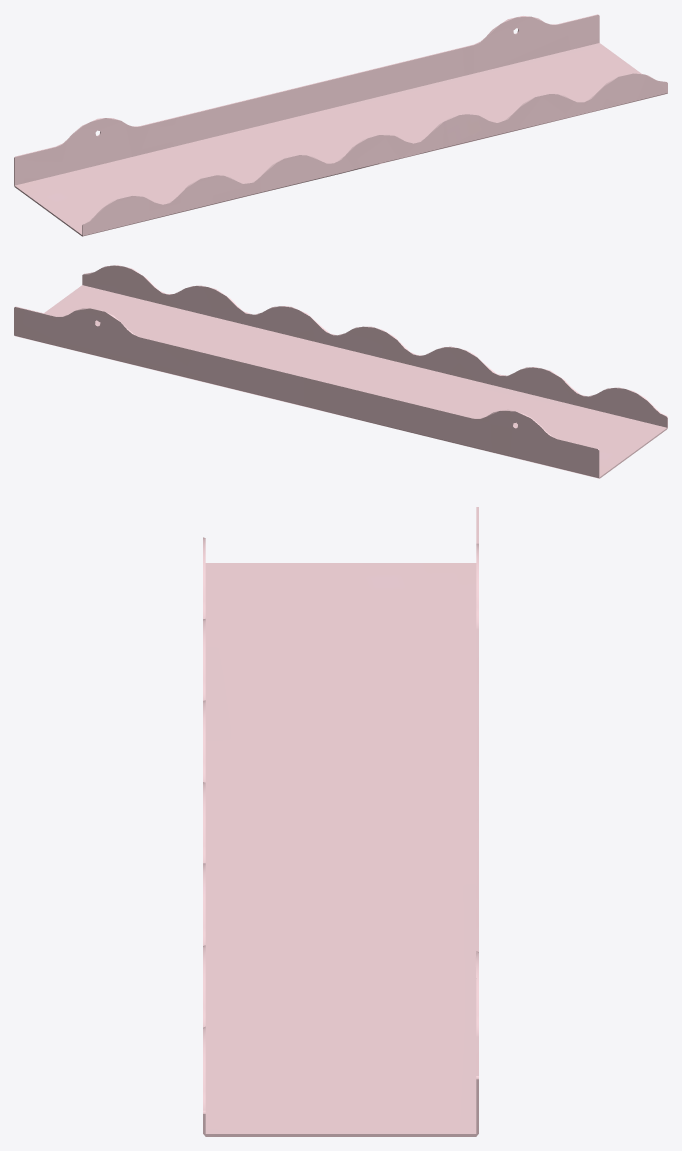
The model's file is 11 - DAGGKAPRIFOL - 畫框壁架，淺粉紅色，49 公分 IKEA 線上購物.glb.
The picture shows the model from 3 angles, top to bottom: view 1: azimuth 30°, elevation 25°; view 2: azimuth 150°, elevation 25°; view 3: azimuth 270°, elevation 25°; orthographic projection. The views are drawn at different scales.
Visible parts, largest first — view 1: 80617937_00617936_cn; view 2: 80617937_00617936_cn; view 3: 80617937_00617936_cn.
Boxes of the visible parts, x1=… form: 80617937_00617936_cn: x1=14, y1=14, x2=667, y2=236; 80617937_00617936_cn: x1=14, y1=265, x2=667, y2=478; 80617937_00617936_cn: x1=203, y1=507, x2=478, y2=1136.
Size of the model in its own units: 0.49 by 0.0381 by 0.1001.
Materials: 1 (1 with a texture image).
